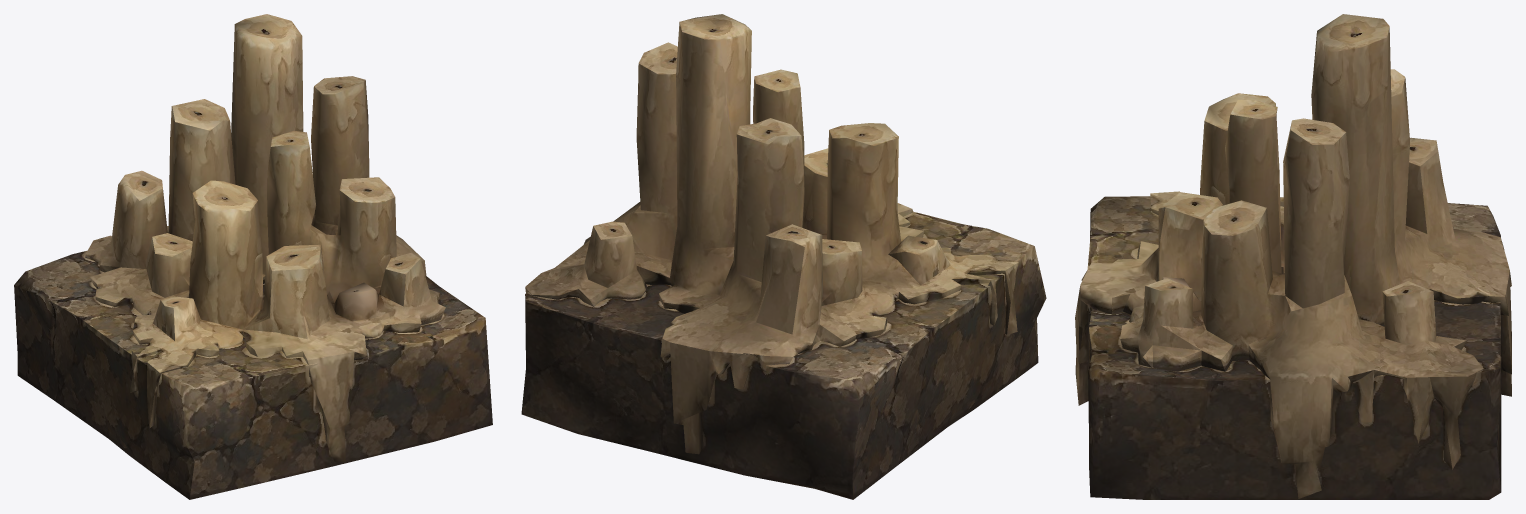
The model's file is dungeon_candle_cluster.glb.
The picture shows the model from 3 angles, left to right: view 1: azimuth 30°, elevation 25°; view 2: azimuth 150°, elevation 25°; view 3: azimuth 270°, elevation 25°; orthographic projection. The views are drawn at different scales.
Parts seen in each view (by area): view 1: candle_cluster; view 2: candle_cluster; view 3: candle_cluster.
Boxes of the visible parts, left/top/right/bottom form: candle_cluster: left=14, top=14, right=492, bottom=499; candle_cluster: left=521, top=14, right=1046, bottom=499; candle_cluster: left=1075, top=14, right=1511, bottom=499.
Size of the model in its own units: 0.958 by 0.9663 by 0.937.
Materials: 1 (1 with a texture image).
